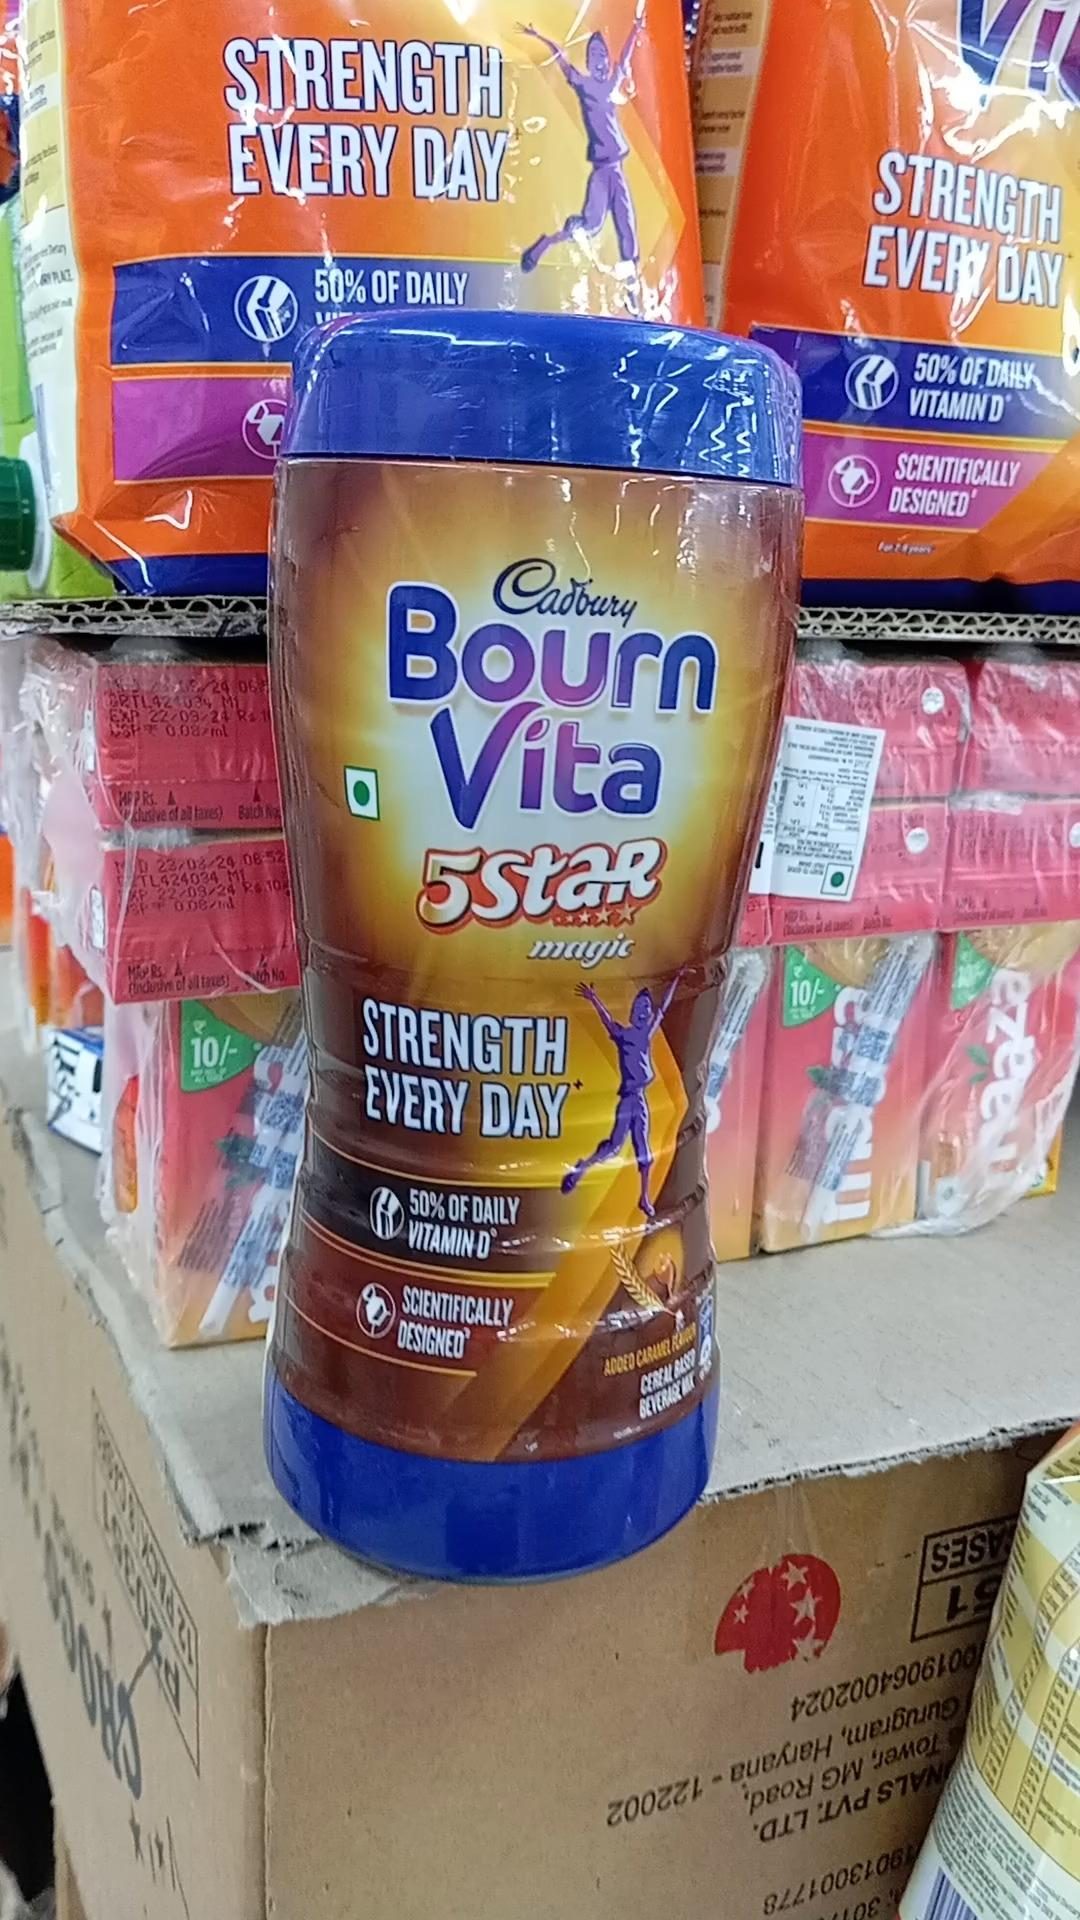BOURN_VITA_FIVE_STAR_MAGIC_500_G_JAR: (276, 295, 810, 1592)
